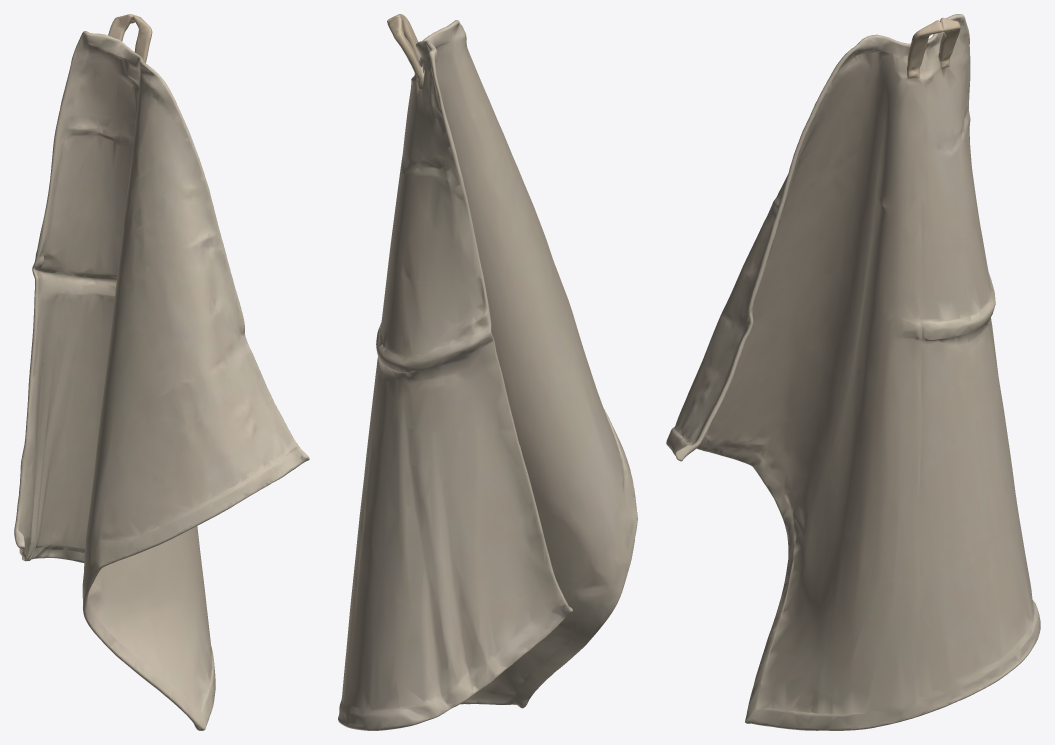
3 views of the same model, side by side, from view 1: azimuth 30°, elevation 25°; view 2: azimuth 150°, elevation 25°; view 3: azimuth 270°, elevation 25° (orthographic). The views are drawn at different scales.
Visible parts, largest first — view 1: tripo_node_2be4b95d-d94b-4dab-a84e-2734b0500491; view 2: tripo_node_2be4b95d-d94b-4dab-a84e-2734b0500491; view 3: tripo_node_2be4b95d-d94b-4dab-a84e-2734b0500491.
Boxes of the visible parts, x1=… form: tripo_node_2be4b95d-d94b-4dab-a84e-2734b0500491: x1=14, y1=14, x2=309, y2=730; tripo_node_2be4b95d-d94b-4dab-a84e-2734b0500491: x1=338, y1=14, x2=637, y2=730; tripo_node_2be4b95d-d94b-4dab-a84e-2734b0500491: x1=666, y1=14, x2=1040, y2=730.
Size of the model in its own units: 0.3057 by 1 by 0.475.
Materials: 1 (1 with a texture image).
